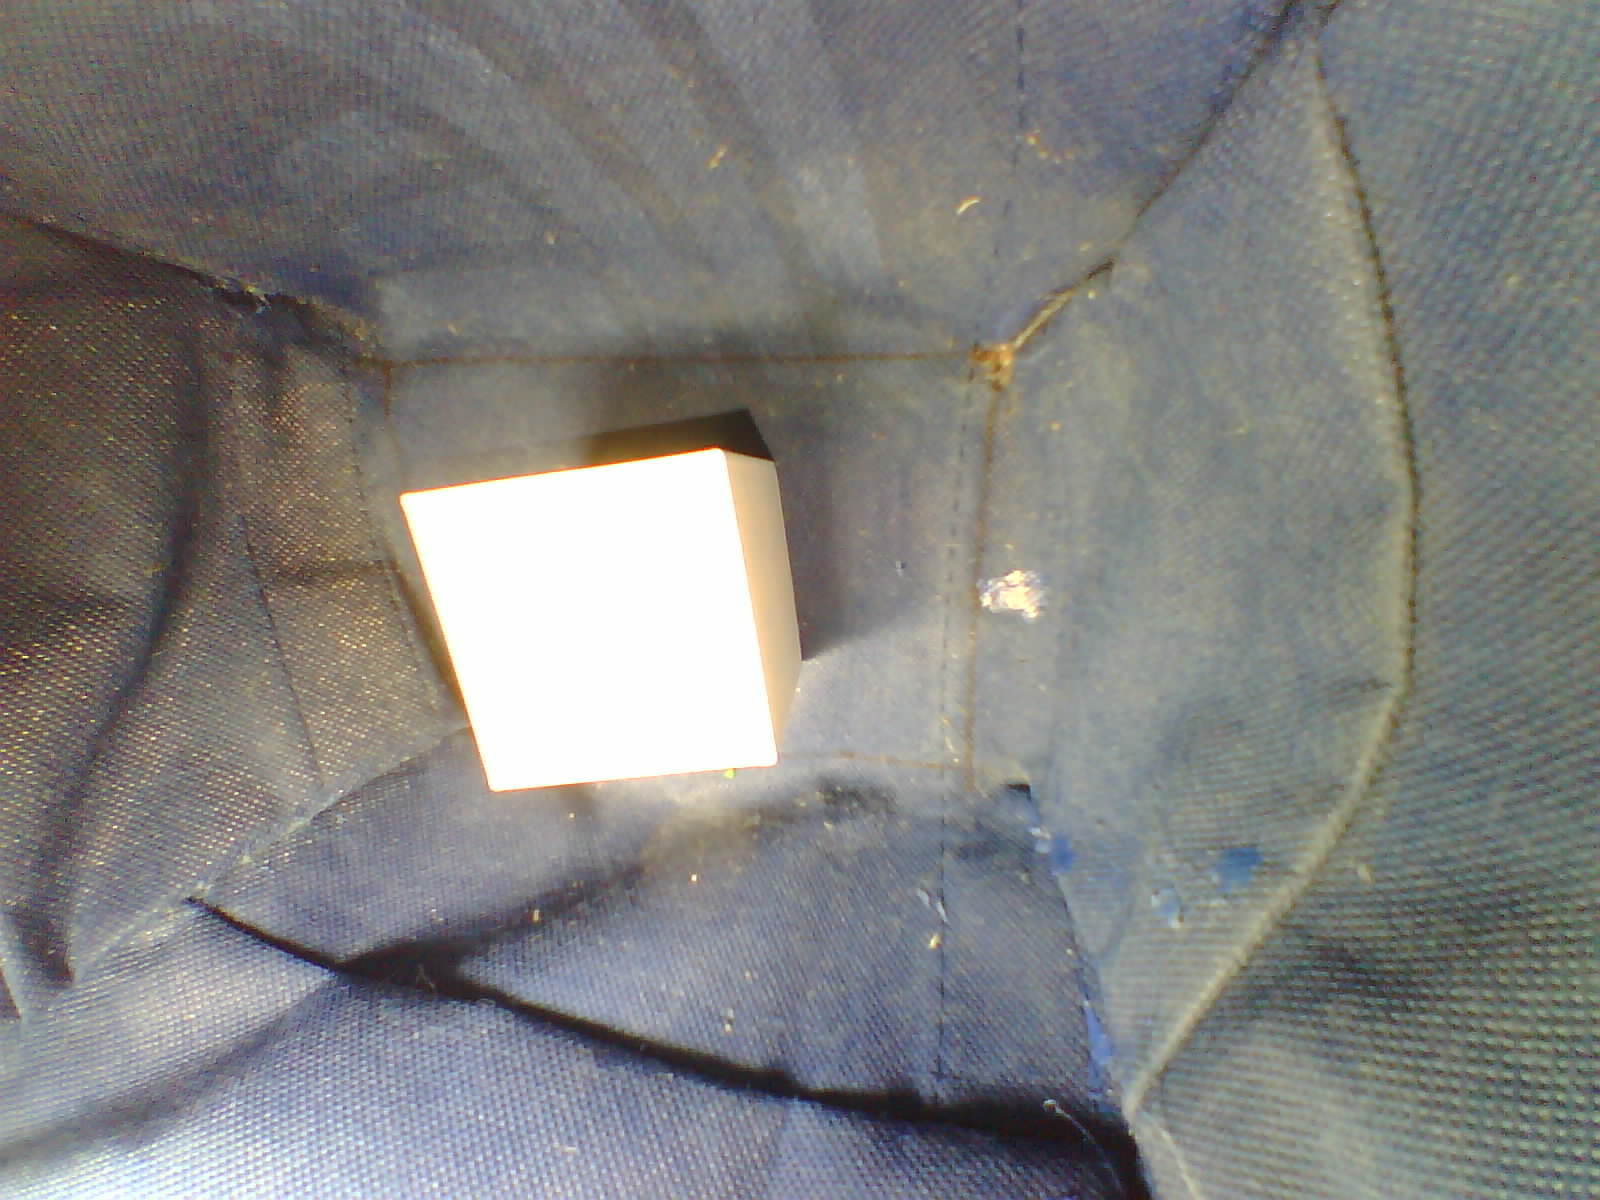cube-hard: (372, 430, 826, 823)
